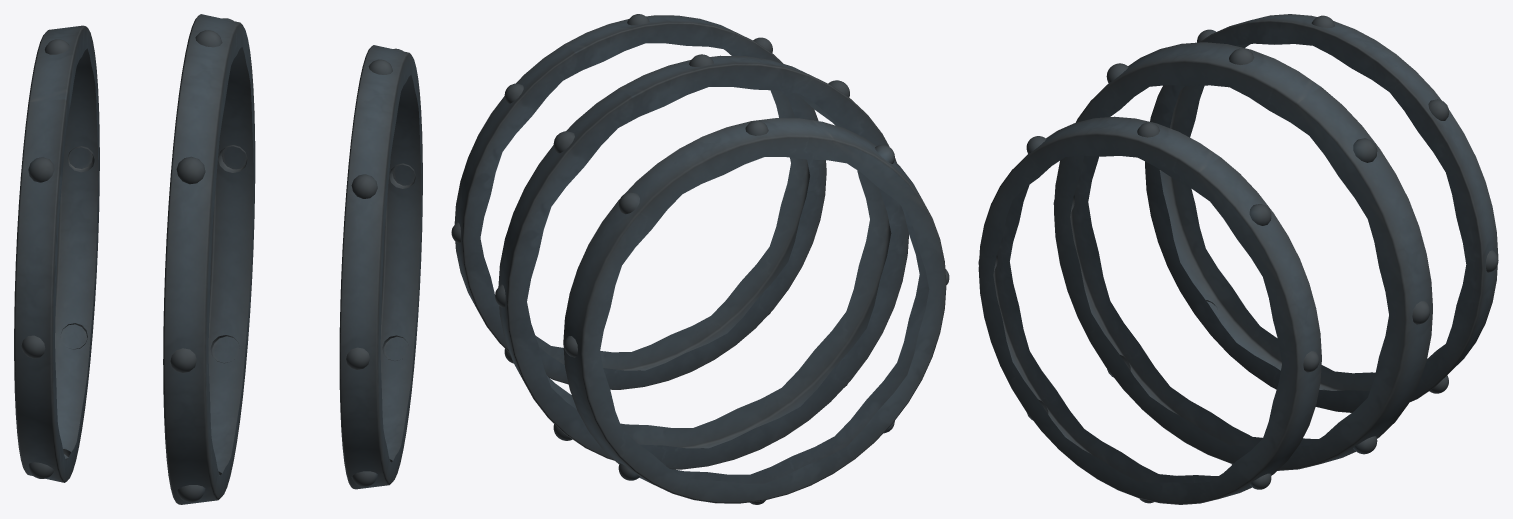
3 views of the same model, side by side, from view 1: azimuth 30°, elevation 25°; view 2: azimuth 150°, elevation 25°; view 3: azimuth 270°, elevation 25° (orthographic). The views are drawn at different scales.
Parts seen in each view (by area): view 1: Cylinder.056; view 2: Cylinder.056; view 3: Cylinder.056.
Boxes of the visible parts, x1,y1,x2,y2 form: Cylinder.056: (14,14,422,504); Cylinder.056: (451,14,949,504); Cylinder.056: (978,14,1498,504).
Bounding box in the file's own units: 158 × 145 × 163.
Materials: 1 (1 with a texture image).
